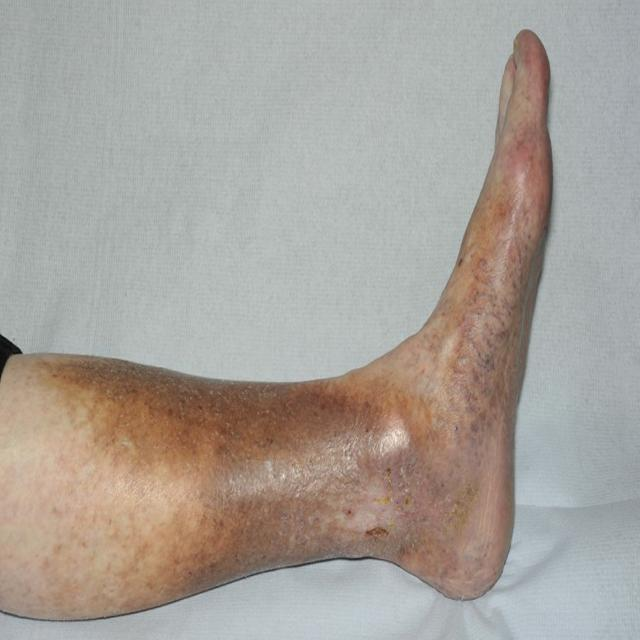wound: (227, 394, 475, 563)
